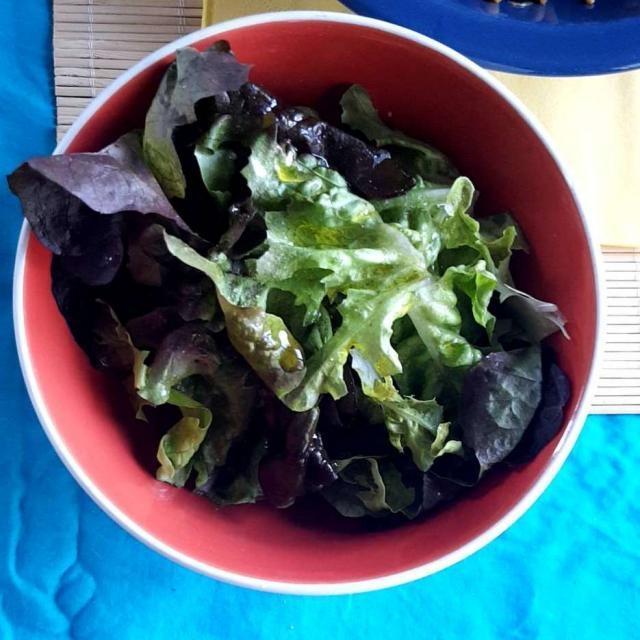salad: (46, 54, 555, 525)
